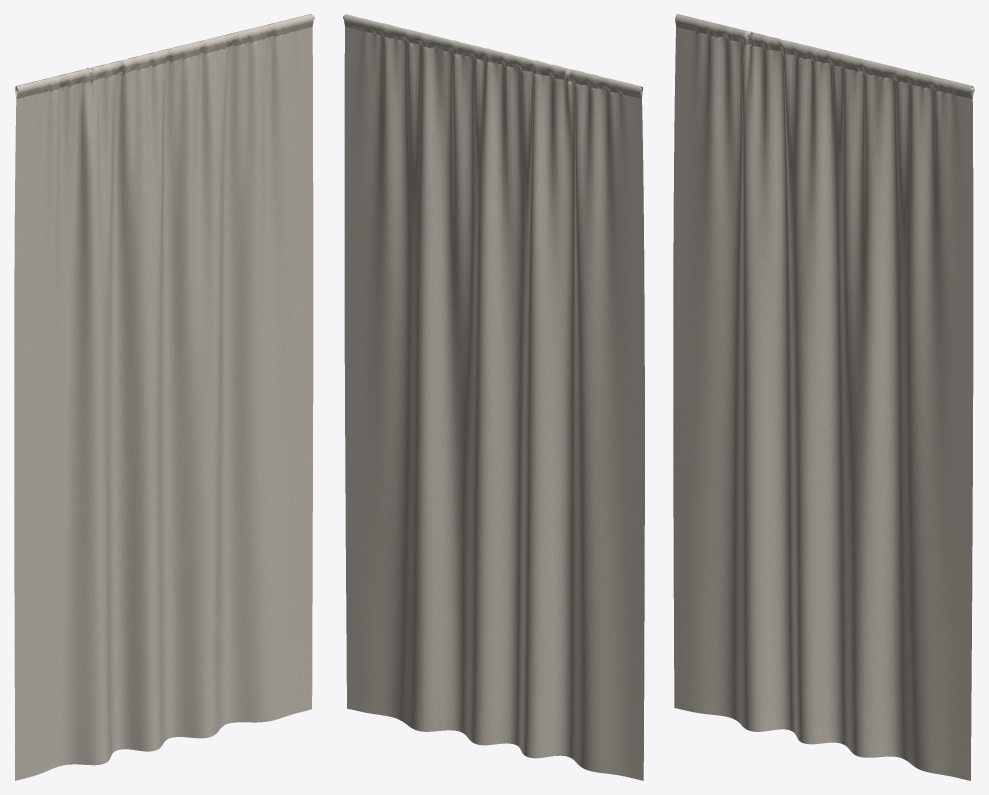
The model's file is MEGA_PACK_Curtain__curtain-207554.glb.
3 renders of one model, left to right at view 1: azimuth 30°, elevation 25°; view 2: azimuth 150°, elevation 25°; view 3: azimuth 330°, elevation 25°, orthographic.
Visible parts, largest first — view 1: curtain-207554; view 2: curtain-207554; view 3: curtain-207554.
Boxes of the visible parts, <box> form: curtain-207554: <box>14,14,314,780</box>; curtain-207554: <box>343,14,644,780</box>; curtain-207554: <box>673,14,974,780</box>.
Bounding box in the file's own units: 0.8564 × 1.89 × 0.0524.
Materials: 1 (1 with a texture image).
